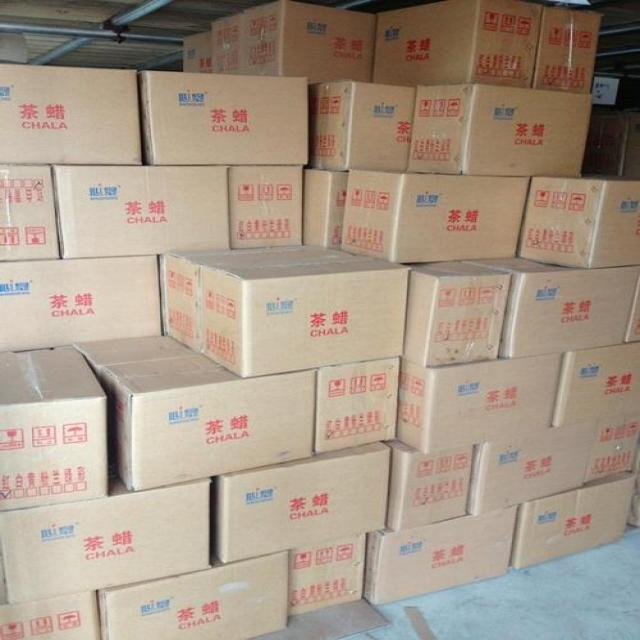box: (77, 330, 324, 492), (154, 243, 418, 381), (0, 471, 226, 612), (211, 436, 385, 564), (90, 541, 292, 640), (0, 346, 116, 512), (132, 62, 304, 171), (0, 250, 171, 358), (338, 162, 522, 261), (48, 167, 236, 261), (392, 351, 558, 455), (414, 78, 586, 176), (363, 516, 530, 616), (214, 0, 372, 97), (490, 252, 640, 354), (367, 0, 533, 90), (0, 60, 142, 164), (468, 416, 606, 522), (512, 468, 640, 576), (528, 171, 640, 277), (310, 77, 422, 173), (399, 268, 497, 364), (310, 357, 392, 459), (524, 3, 610, 92), (551, 346, 640, 430), (385, 442, 466, 534), (287, 540, 372, 616)
